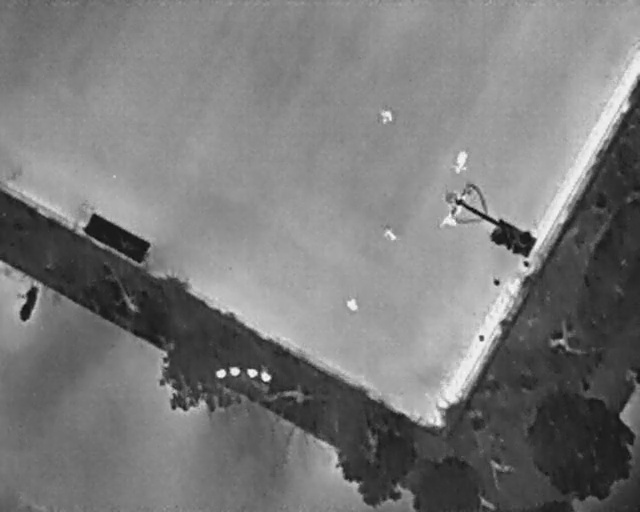Bicycle: (9, 279, 42, 325)
Person: (438, 199, 466, 233), (451, 148, 471, 176), (341, 292, 364, 316), (378, 223, 399, 246), (378, 109, 393, 126)
